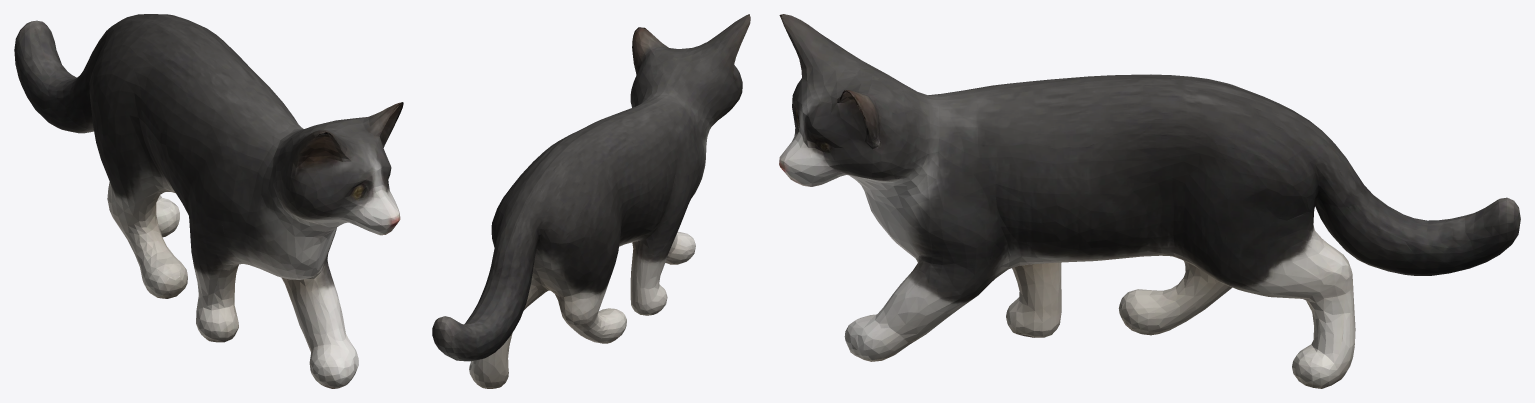
The picture shows the model from 3 angles, left to right: view 1: azimuth 30°, elevation 25°; view 2: azimuth 150°, elevation 25°; view 3: azimuth 270°, elevation 25°; orthographic projection. The views are drawn at different scales.
Visible parts, largest first — view 1: geometry_0; view 2: geometry_0; view 3: geometry_0.
Part boxes in pixels (x1,y1,x2,y2): geometry_0: [14, 14, 403, 388]; geometry_0: [432, 14, 750, 388]; geometry_0: [779, 14, 1520, 388].
Size of the model in its own units: 0.2281 by 0.4862 by 0.9993.
1 material, 1 textured.
